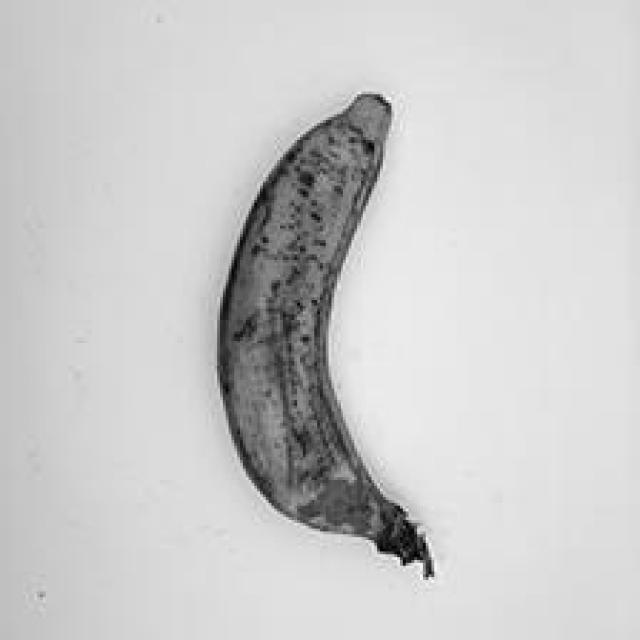Overripe: (166, 65, 491, 606)
